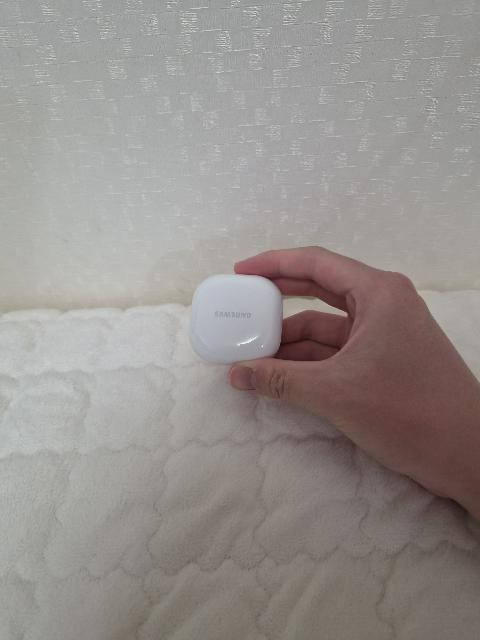earphone_case: (189, 274, 283, 366)
